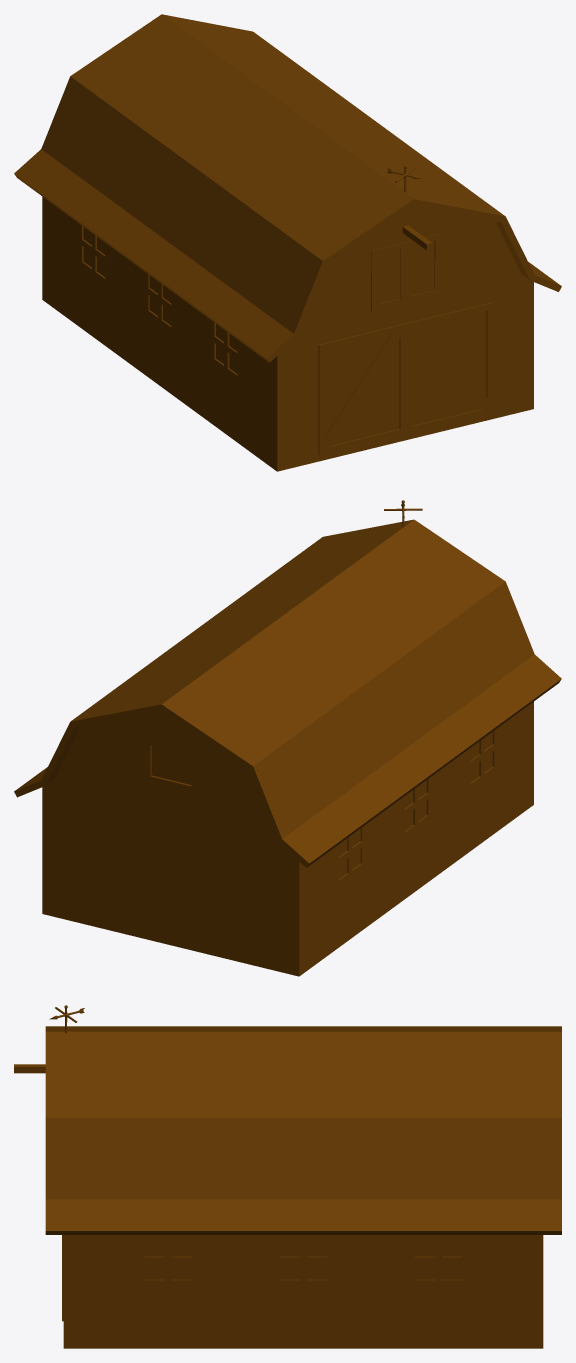
The model's file is Horno.fbx.
The picture shows the model from 3 angles, top to bottom: view 1: azimuth 30°, elevation 25°; view 2: azimuth 150°, elevation 25°; view 3: azimuth 270°, elevation 25°; orthographic projection. The views are drawn at different scales.
Parts seen in each view (by area): view 1: Roof_default, Barn_default; view 2: Roof_default, Barn_default; view 3: Roof_default, Barn_default.
Part boxes in pixels (x1,y1,x2,y2): Roof_default: [14, 14, 561, 362]; Barn_default: [42, 196, 533, 471]; Roof_default: [14, 519, 561, 867]; Barn_default: [42, 701, 533, 976]; Roof_default: [45, 1026, 561, 1234]; Barn_default: [14, 1064, 543, 1348].
Size of the model in its own units: 278 by 246 by 437.
